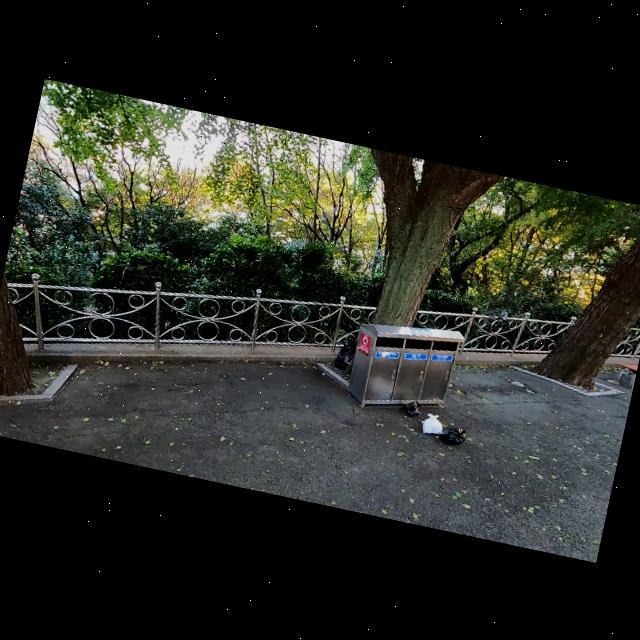trash: (333, 328, 360, 370), (438, 422, 468, 448), (418, 411, 446, 436), (400, 398, 420, 418)
